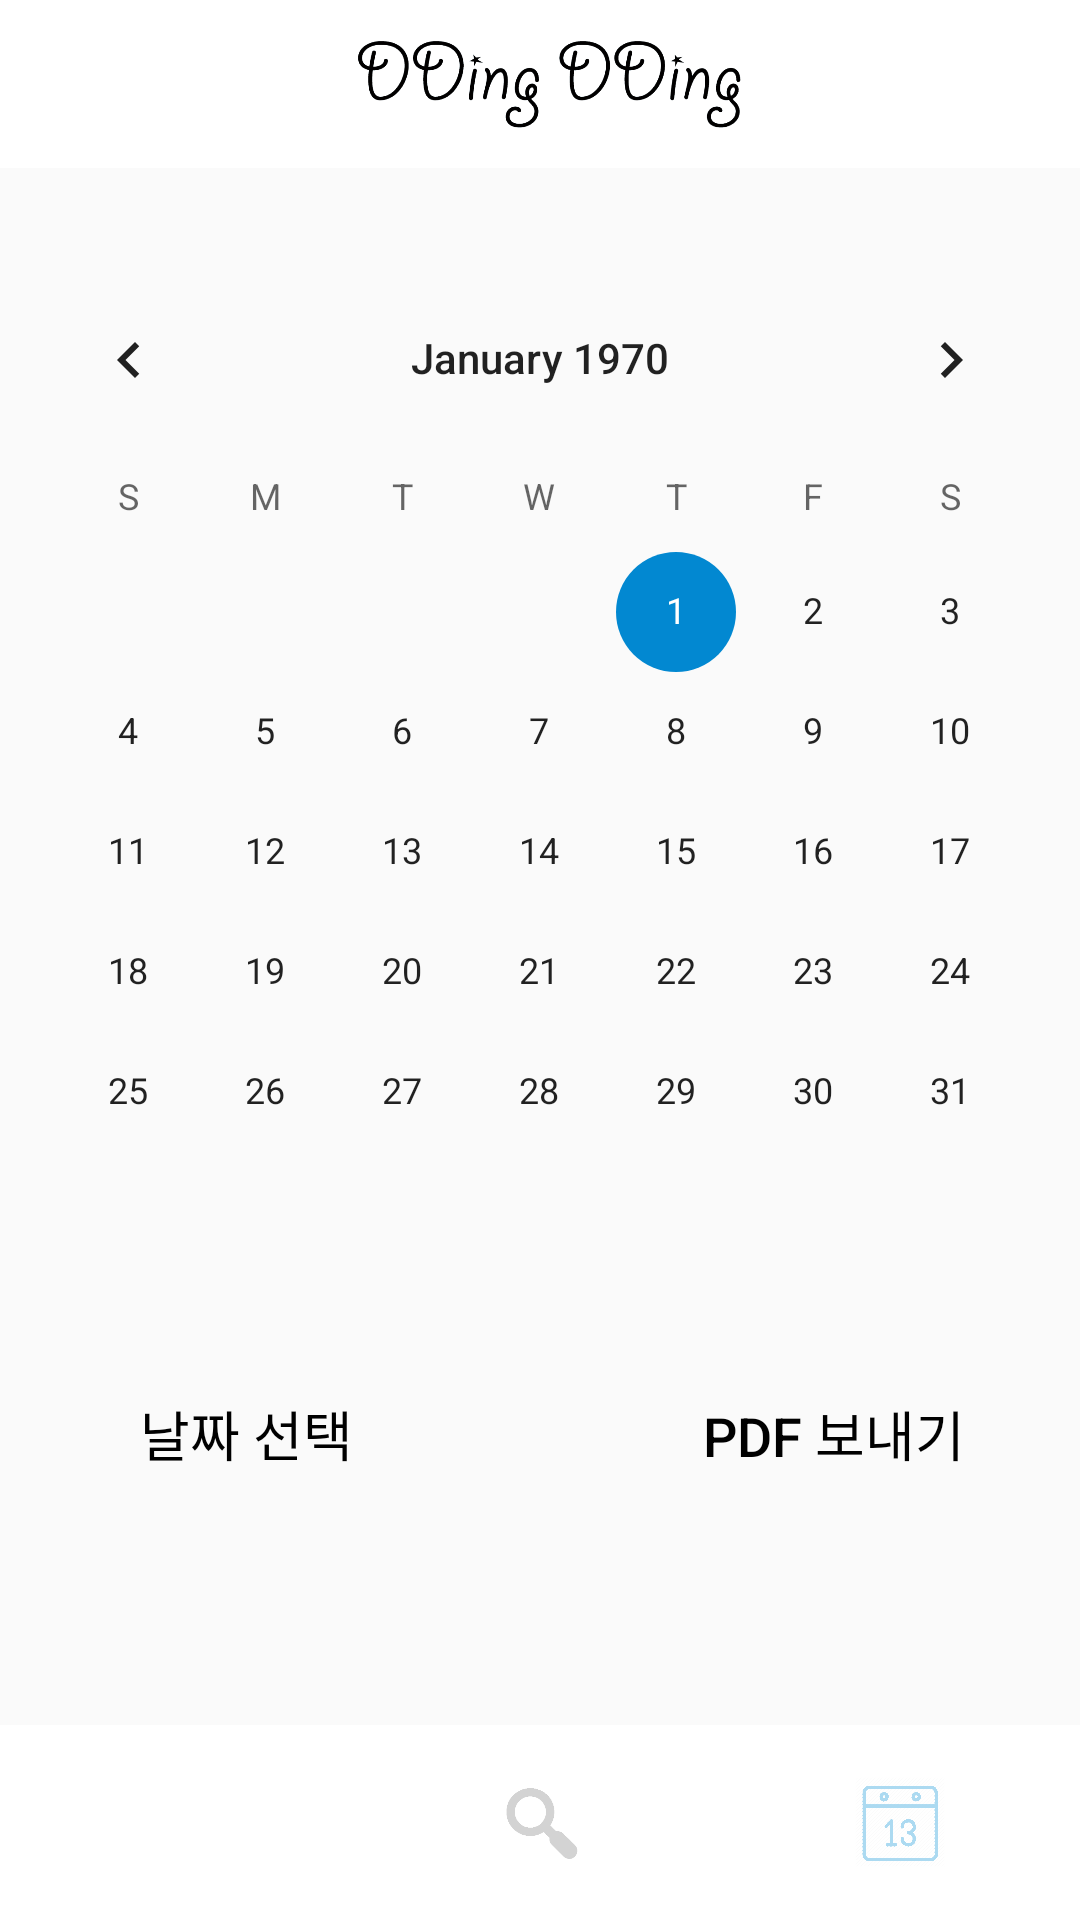

Screen size 1080w x 1920h. Icon name, then its box in pixels as [x1, y1, x2, y2]:
calendar skyblue: [862, 1786, 938, 1861]
